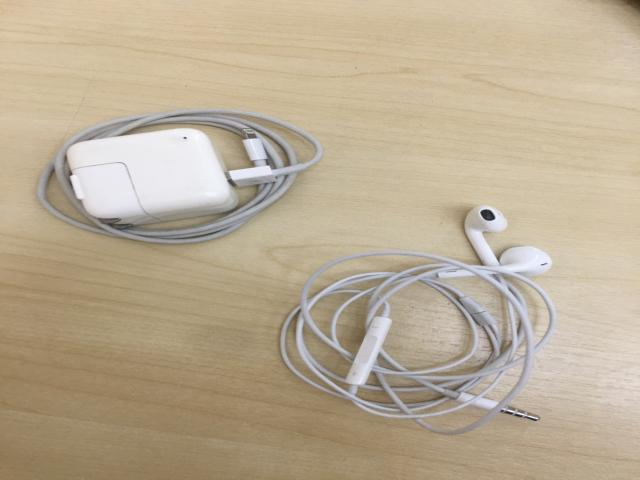wire: (276, 207, 558, 438), (40, 112, 318, 246)
